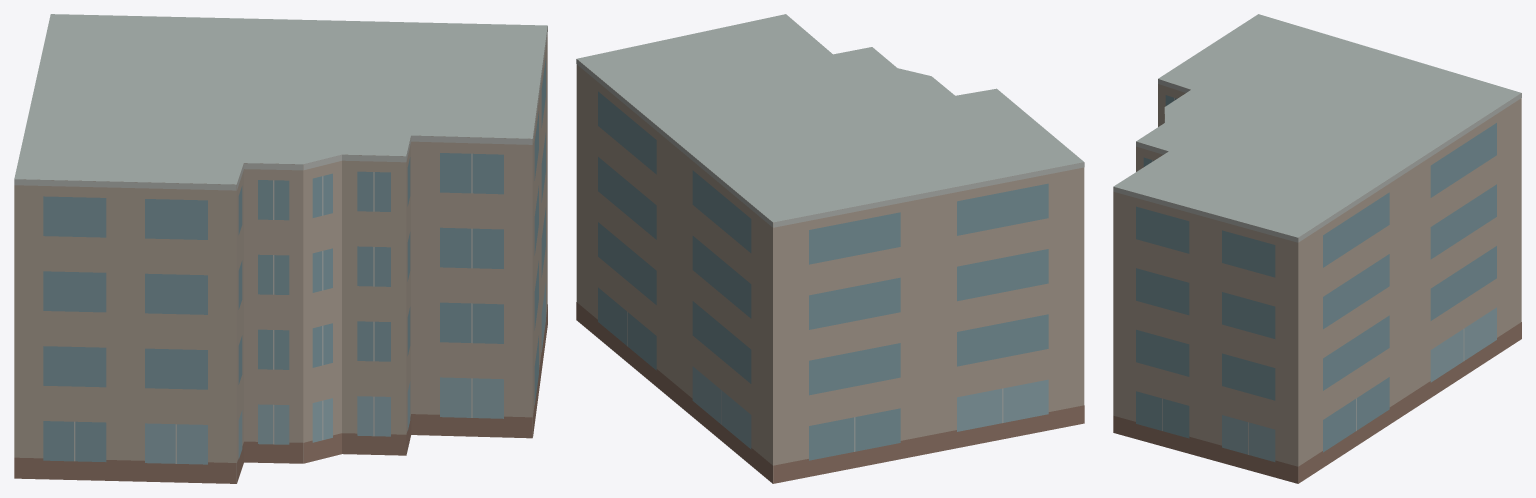
File: survey-upis-32595969.glb
3 views of the same model, side by side, from view 1: azimuth 30°, elevation 25°; view 2: azimuth 150°, elevation 25°; view 3: azimuth 270°, elevation 25° (orthographic). The views are drawn at different scales.
Parts seen in each view (by area): view 1: survey-upis-32595969.tmp; view 2: survey-upis-32595969.tmp; view 3: survey-upis-32595969.tmp.
Part boxes in pixels (x1,y1,x2,y2): survey-upis-32595969.tmp: (14, 14, 547, 483); survey-upis-32595969.tmp: (576, 14, 1084, 483); survey-upis-32595969.tmp: (1113, 14, 1521, 483).
Size of the model in its own units: 23.4 by 12 by 18.06.
